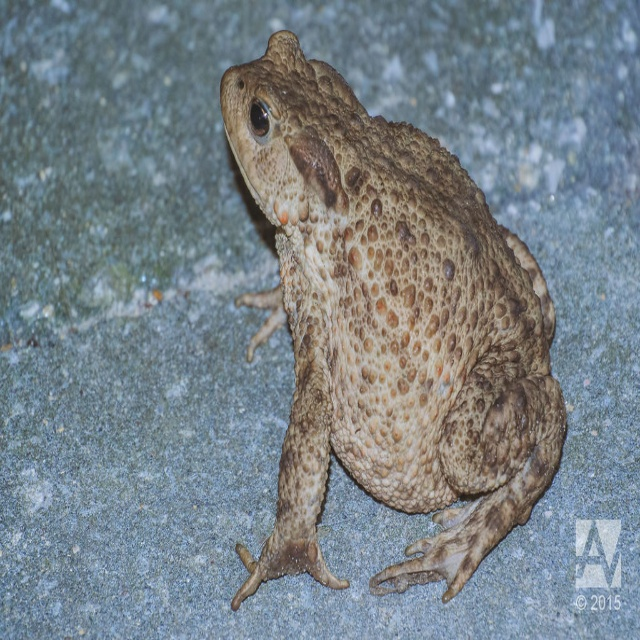Frog: (219, 28, 568, 614)
